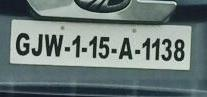1: (140, 36, 150, 60), (150, 37, 160, 61), (71, 34, 81, 57), (87, 35, 97, 58)
3: (160, 37, 172, 61)
5: (97, 35, 109, 58)
8: (172, 37, 184, 61)
A: (117, 36, 132, 59)
G: (14, 31, 30, 55)
J: (30, 32, 44, 56)
W: (43, 33, 63, 57)
